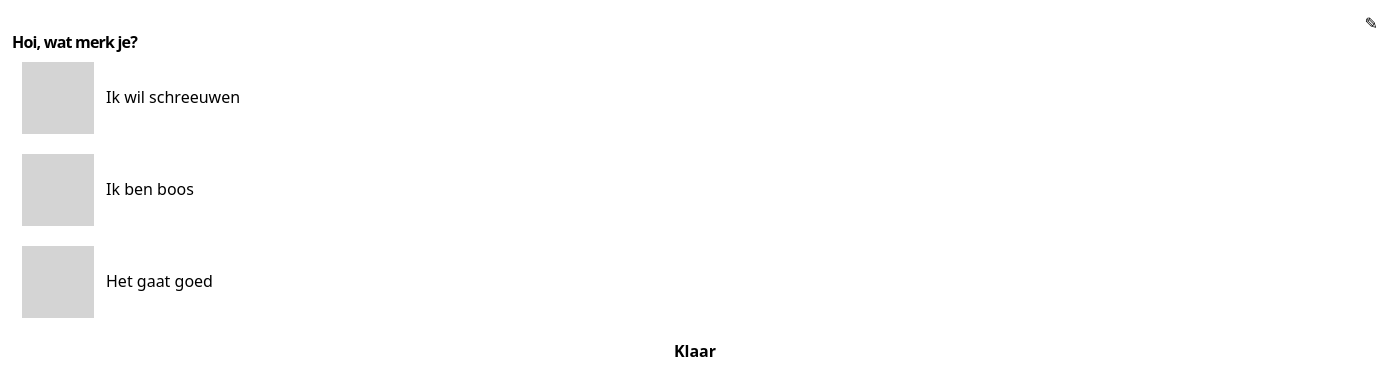
App › "Het gaat goed" goes straight to green, and a red signal wins
This screenshot has width=1390, height=390.
Click the button "Het gaat goed": click(58, 282) 12,236 -> 1378,328
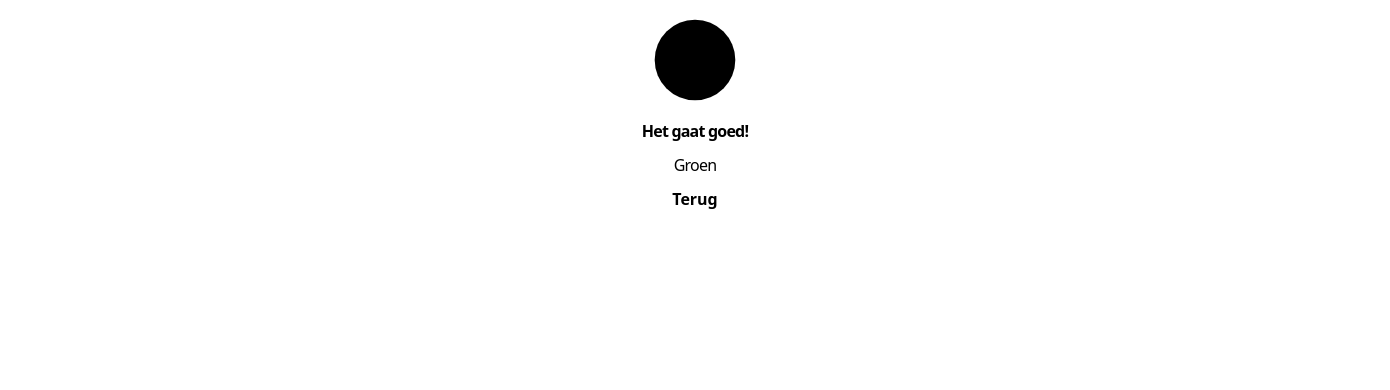
expect the heading "Het gaat goed!" is shown: met, box 642,120 -> 748,142
Click the button "Terug": click(695, 199) 12,176 -> 1378,222
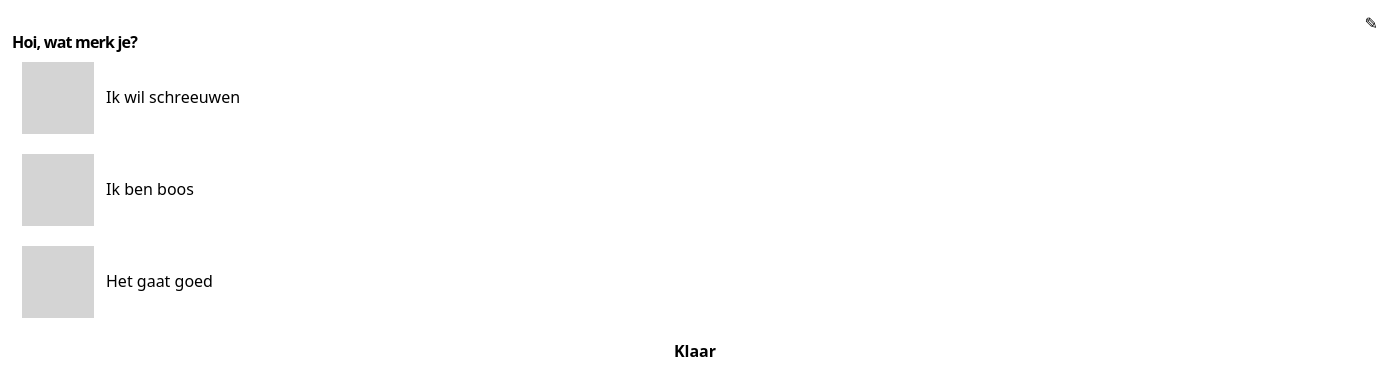
Click the button "Ik ben boos": click(58, 190) 12,144 -> 1378,236
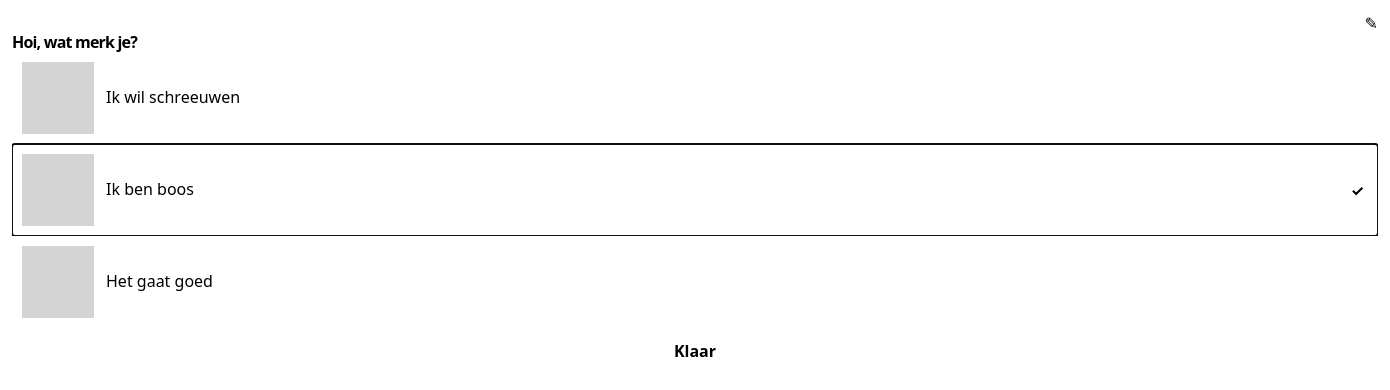
Click the button "Ik wil schreeuwen": click(58, 98) 12,52 -> 1378,144
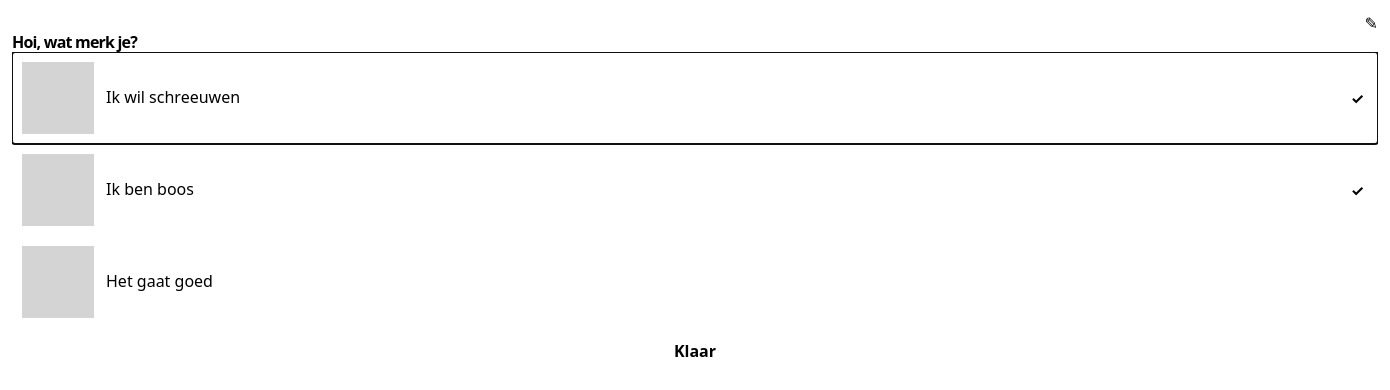
Click the button "Klaar": click(695, 351) 12,328 -> 1378,374
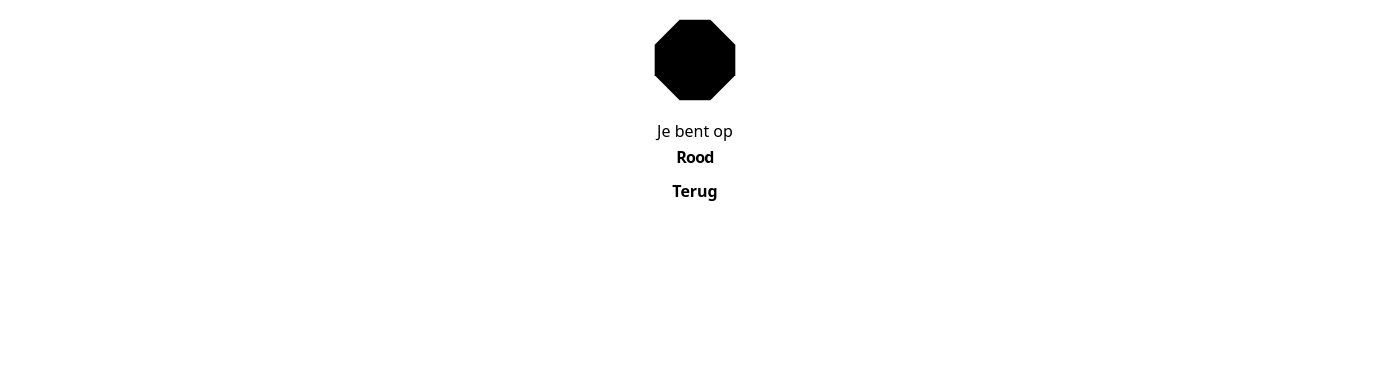
expect the heading "Je bent op Rood" is shown: met, box 657,120 -> 733,168
